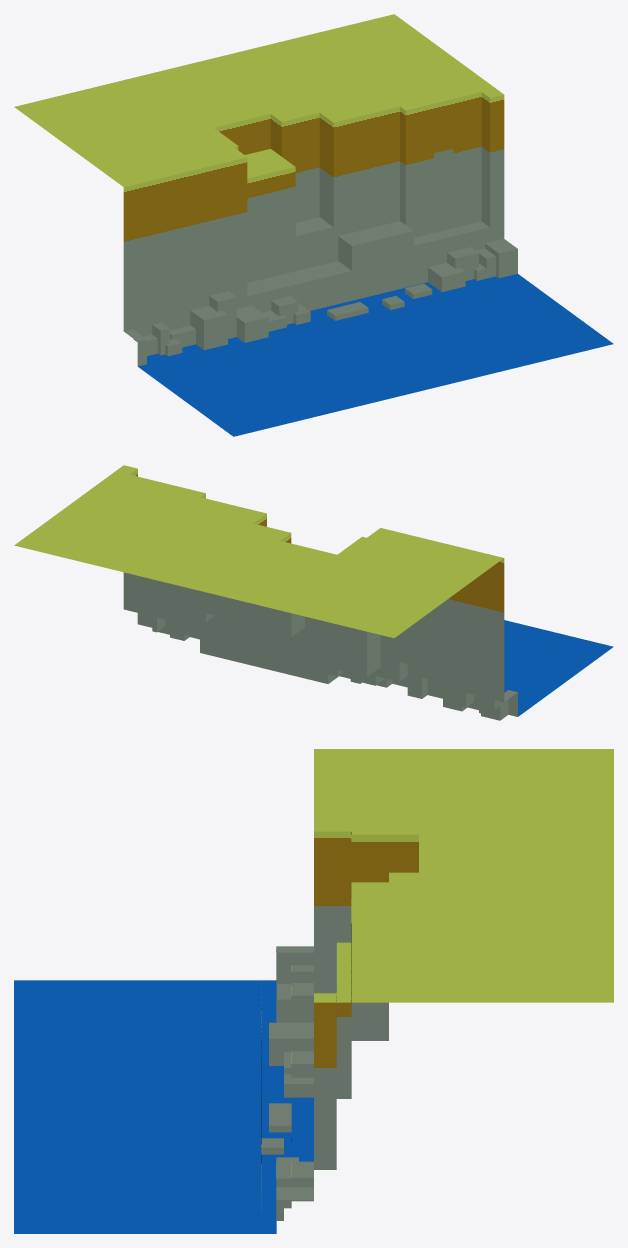
File: MMWW(1).glb
The picture shows the model from 3 angles, top to bottom: view 1: azimuth 30°, elevation 25°; view 2: azimuth 150°, elevation 25°; view 3: azimuth 270°, elevation 25°; orthographic projection. The views are drawn at different scales.
Visible parts, largest first — view 1: model_0.016; view 2: model_0.016; view 3: model_0.016.
Part boxes in pixels (x1,y1,x2,y2): model_0.016: [14, 14, 613, 436]; model_0.016: [14, 465, 613, 720]; model_0.016: [14, 749, 613, 1233].
Bounding box in the file's own units: 80 × 34 × 80.
1 material, 1 textured.
